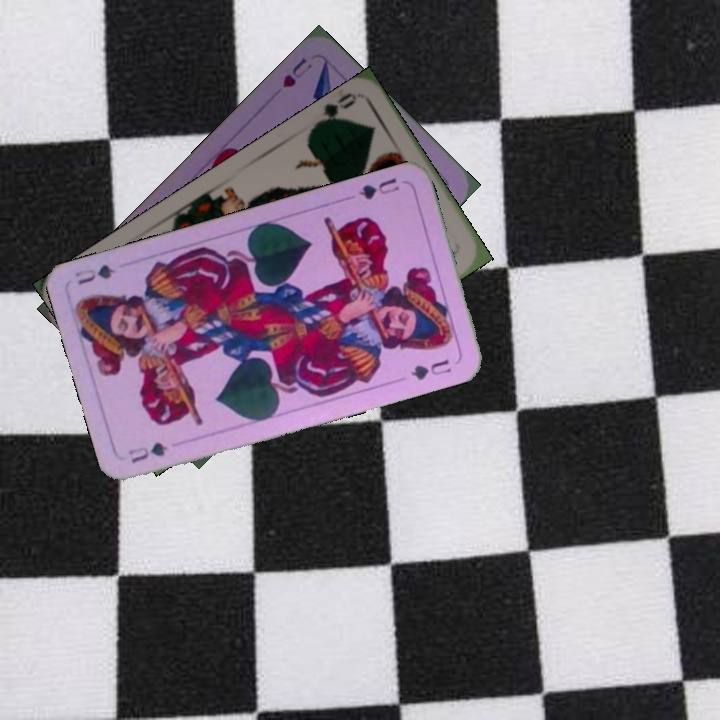GO: (308, 88, 359, 132)
GU: (355, 173, 402, 203), (124, 438, 170, 466)
HU: (278, 53, 315, 91)
